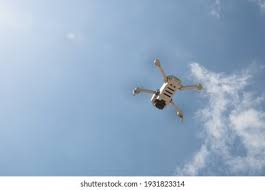drone: (132, 55, 201, 120)
